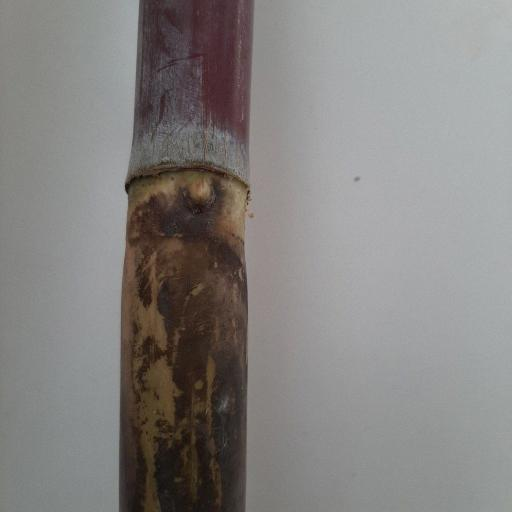Bud: (189, 173, 213, 208)
